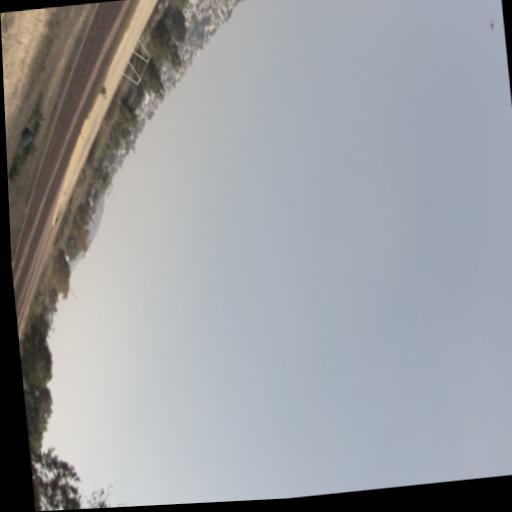drones: (488, 16, 497, 35)
